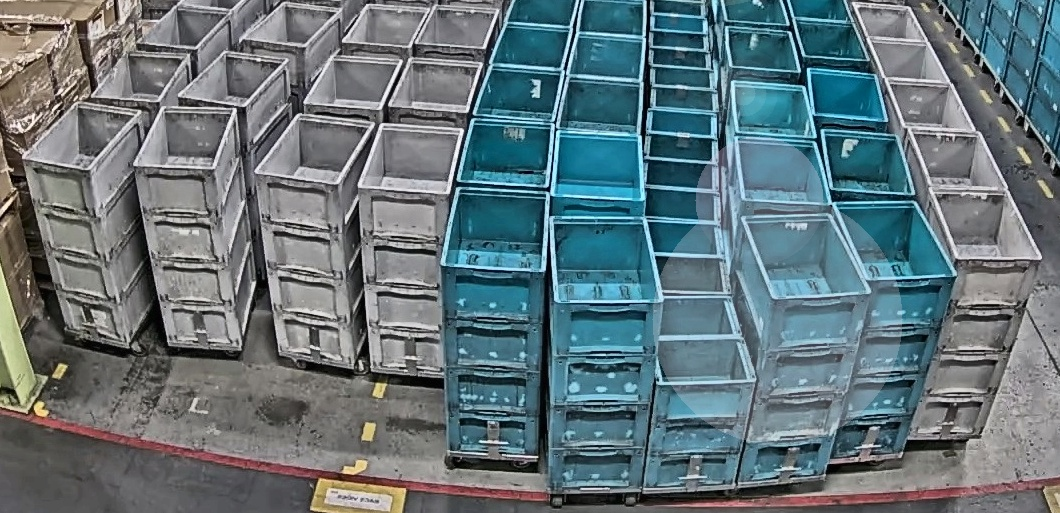4G: (907, 186, 1042, 440), (22, 100, 155, 342), (254, 113, 376, 366), (133, 106, 257, 347), (358, 123, 465, 373)
B4: (729, 212, 872, 483), (829, 200, 957, 459), (549, 217, 664, 490), (441, 186, 551, 456)
B8: (642, 296, 757, 488)
